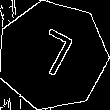L_SW: (27, 26, 79, 85)
